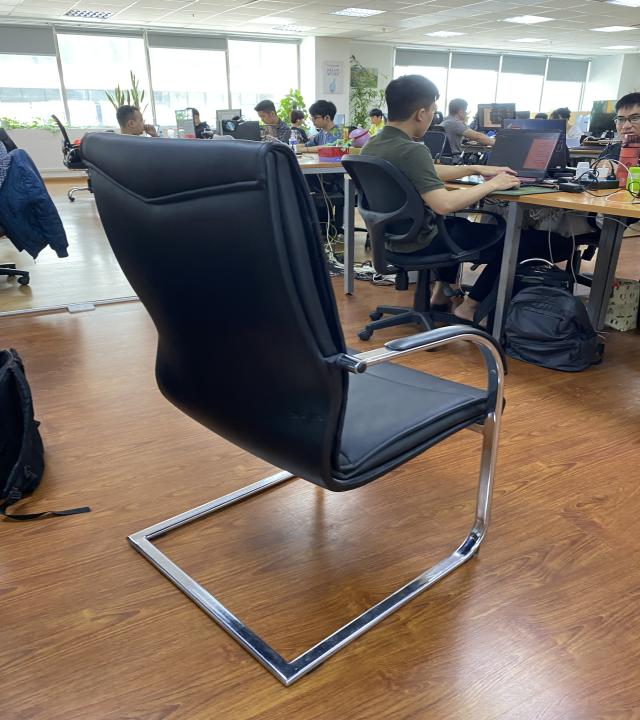SS_03: (78, 129, 510, 690)
